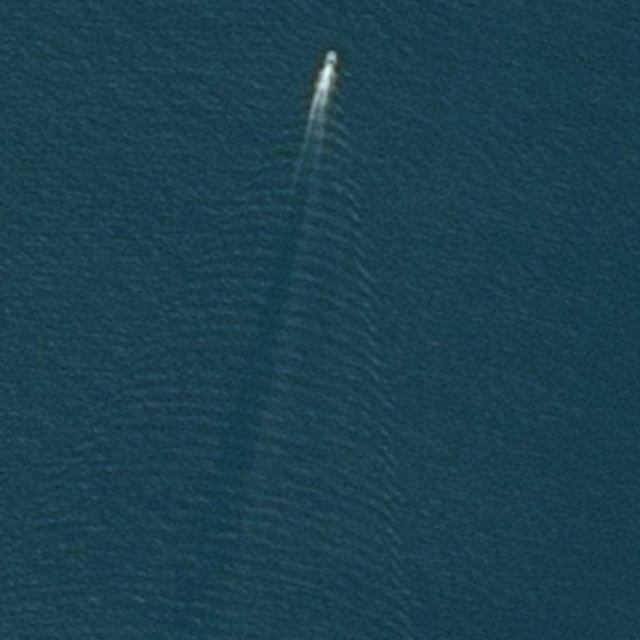wake: (195, 37, 397, 430)
